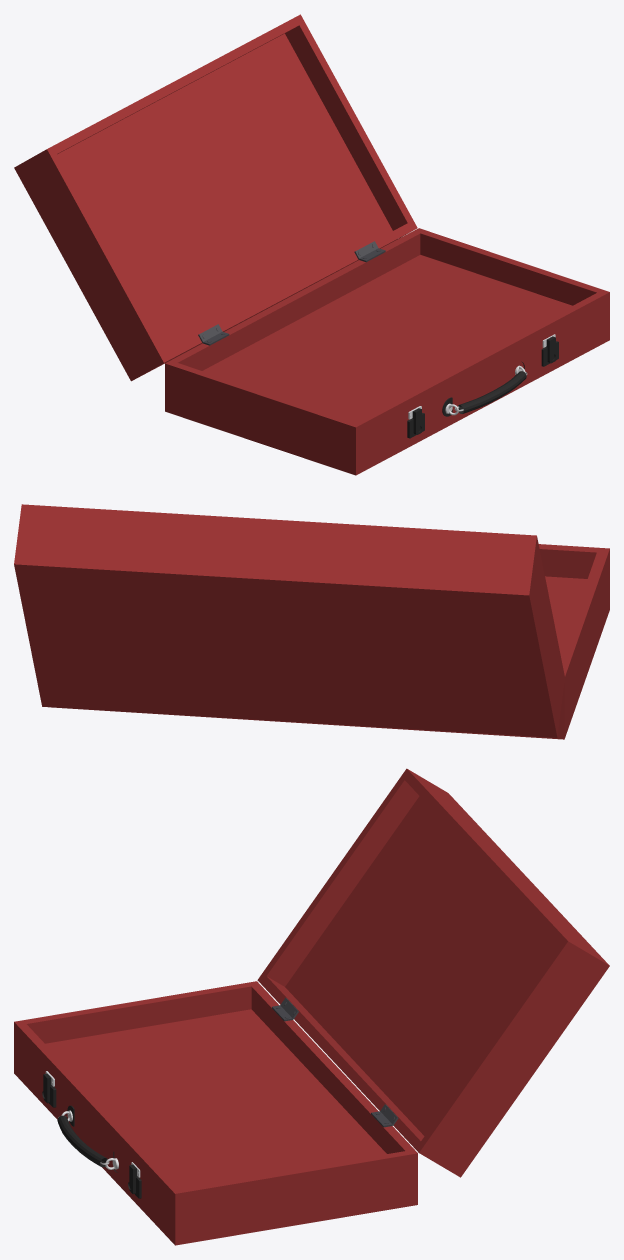
Rendered from malacerta.glb.
3 views of the same model, one above another, from view 1: azimuth 30°, elevation 25°; view 2: azimuth 150°, elevation 25°; view 3: azimuth 270°, elevation 25° (orthographic). The views are drawn at different scales.
Parts seen in each view (by area): view 1: V_Mala_Tecido, V_Mala_Plastico; view 2: V_Mala_Tecido; view 3: V_Mala_Tecido, V_Mala_Plastico.
Boxes of the visible parts, x1,y1,x2,y2 form: V_Mala_Tecido: [14, 14, 609, 475]; V_Mala_Plastico: [407, 336, 558, 438]; V_Mala_Tecido: [14, 504, 609, 739]; V_Mala_Tecido: [14, 768, 609, 1245]; V_Mala_Plastico: [42, 1073, 141, 1198].
Bounding box in the file's own units: 0.929 × 0.4227 × 0.9548.
